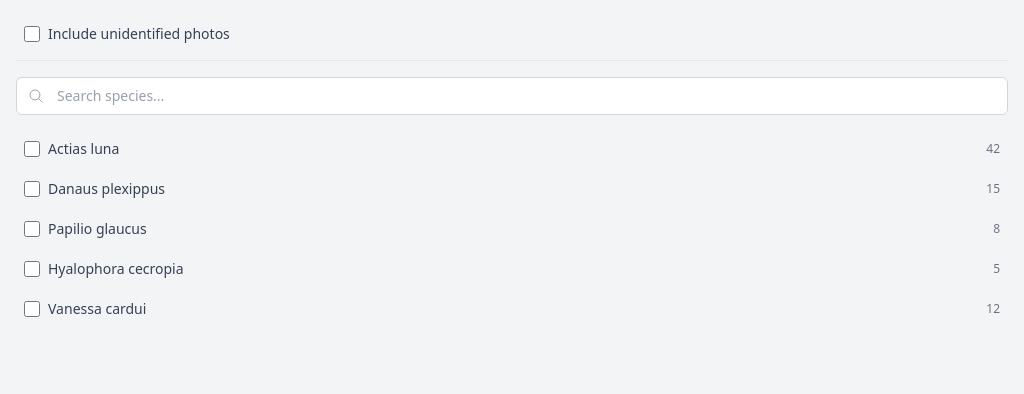
Scenario: SpeciesFilter › Selected Species Display › shows count of selected species
The width and height of the screenshot is (1024, 394).
Click the checkbox named "select species actias luna" at (32, 149), box [24,141,40,157]
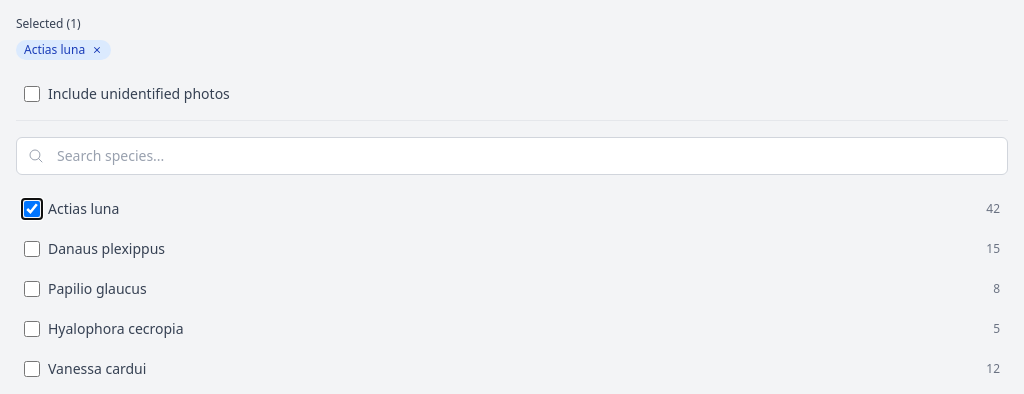
Click the checkbox named "select species danaus plexippus" at (32, 249), box [24,241,40,257]
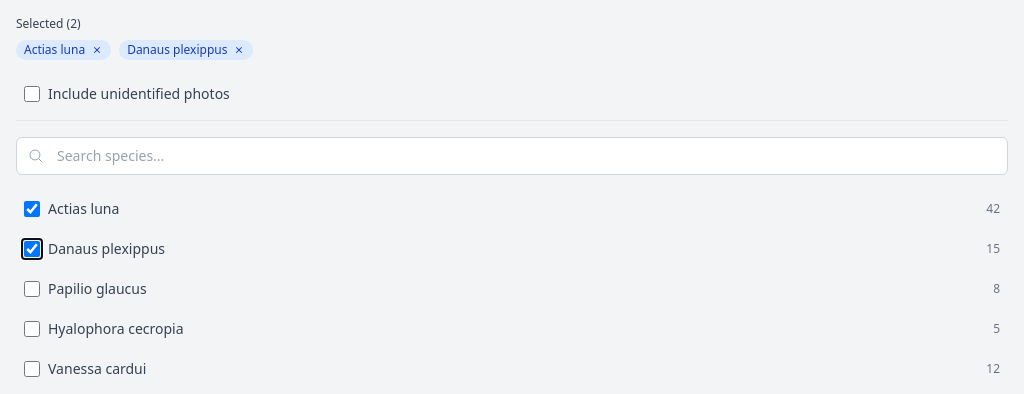
Expected: the text "Selected (2)" is shown, [16,15,81,32]
